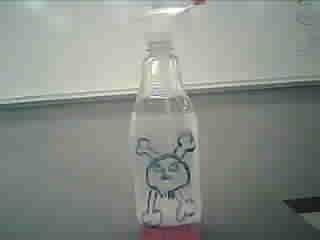hazard: (122, 0, 222, 240)
